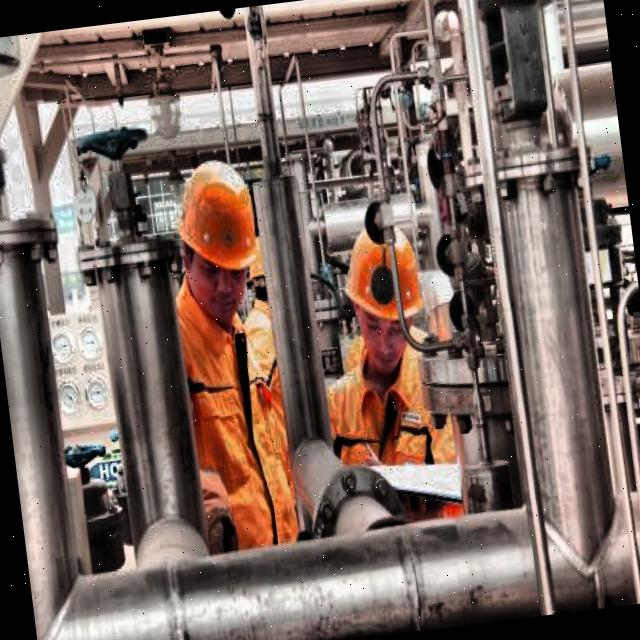helmet: (160, 142, 280, 338), (334, 210, 438, 382)
